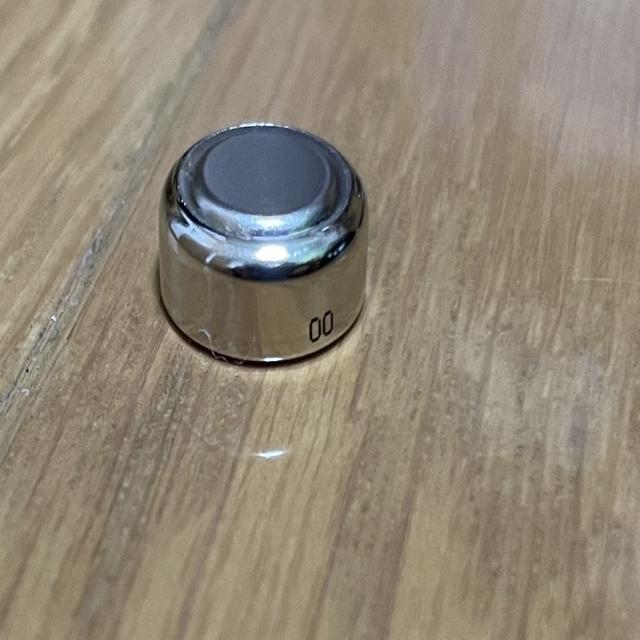COIN: (157, 122, 370, 368)
